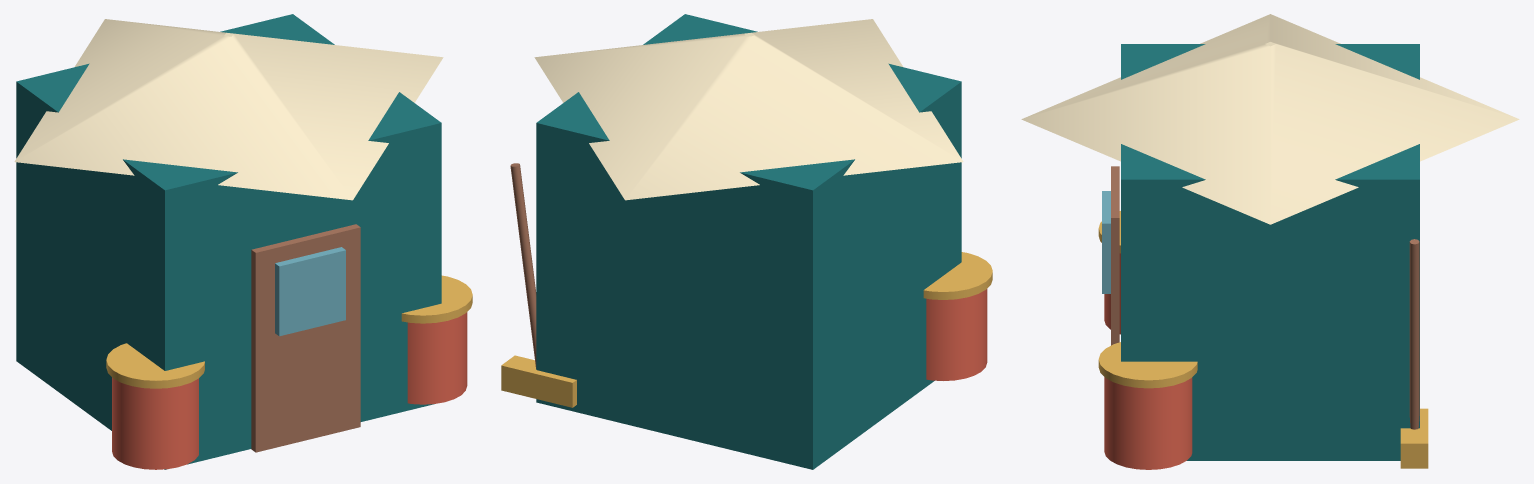
File: staff_janitor.glb
3 views of the same model, side by side, from view 1: azimuth 30°, elevation 25°; view 2: azimuth 150°, elevation 25°; view 3: azimuth 270°, elevation 25° (orthographic).
Parts seen in each view (by area): view 1: staff_janitor; view 2: staff_janitor; view 3: staff_janitor.
Boxes of the visible parts, bbox=[...] form: staff_janitor: bbox=[14, 14, 472, 469]; staff_janitor: bbox=[501, 14, 992, 469]; staff_janitor: bbox=[1021, 14, 1519, 469].
Bounding box in the file's own units: 4.5 × 3.48 × 4.5.
